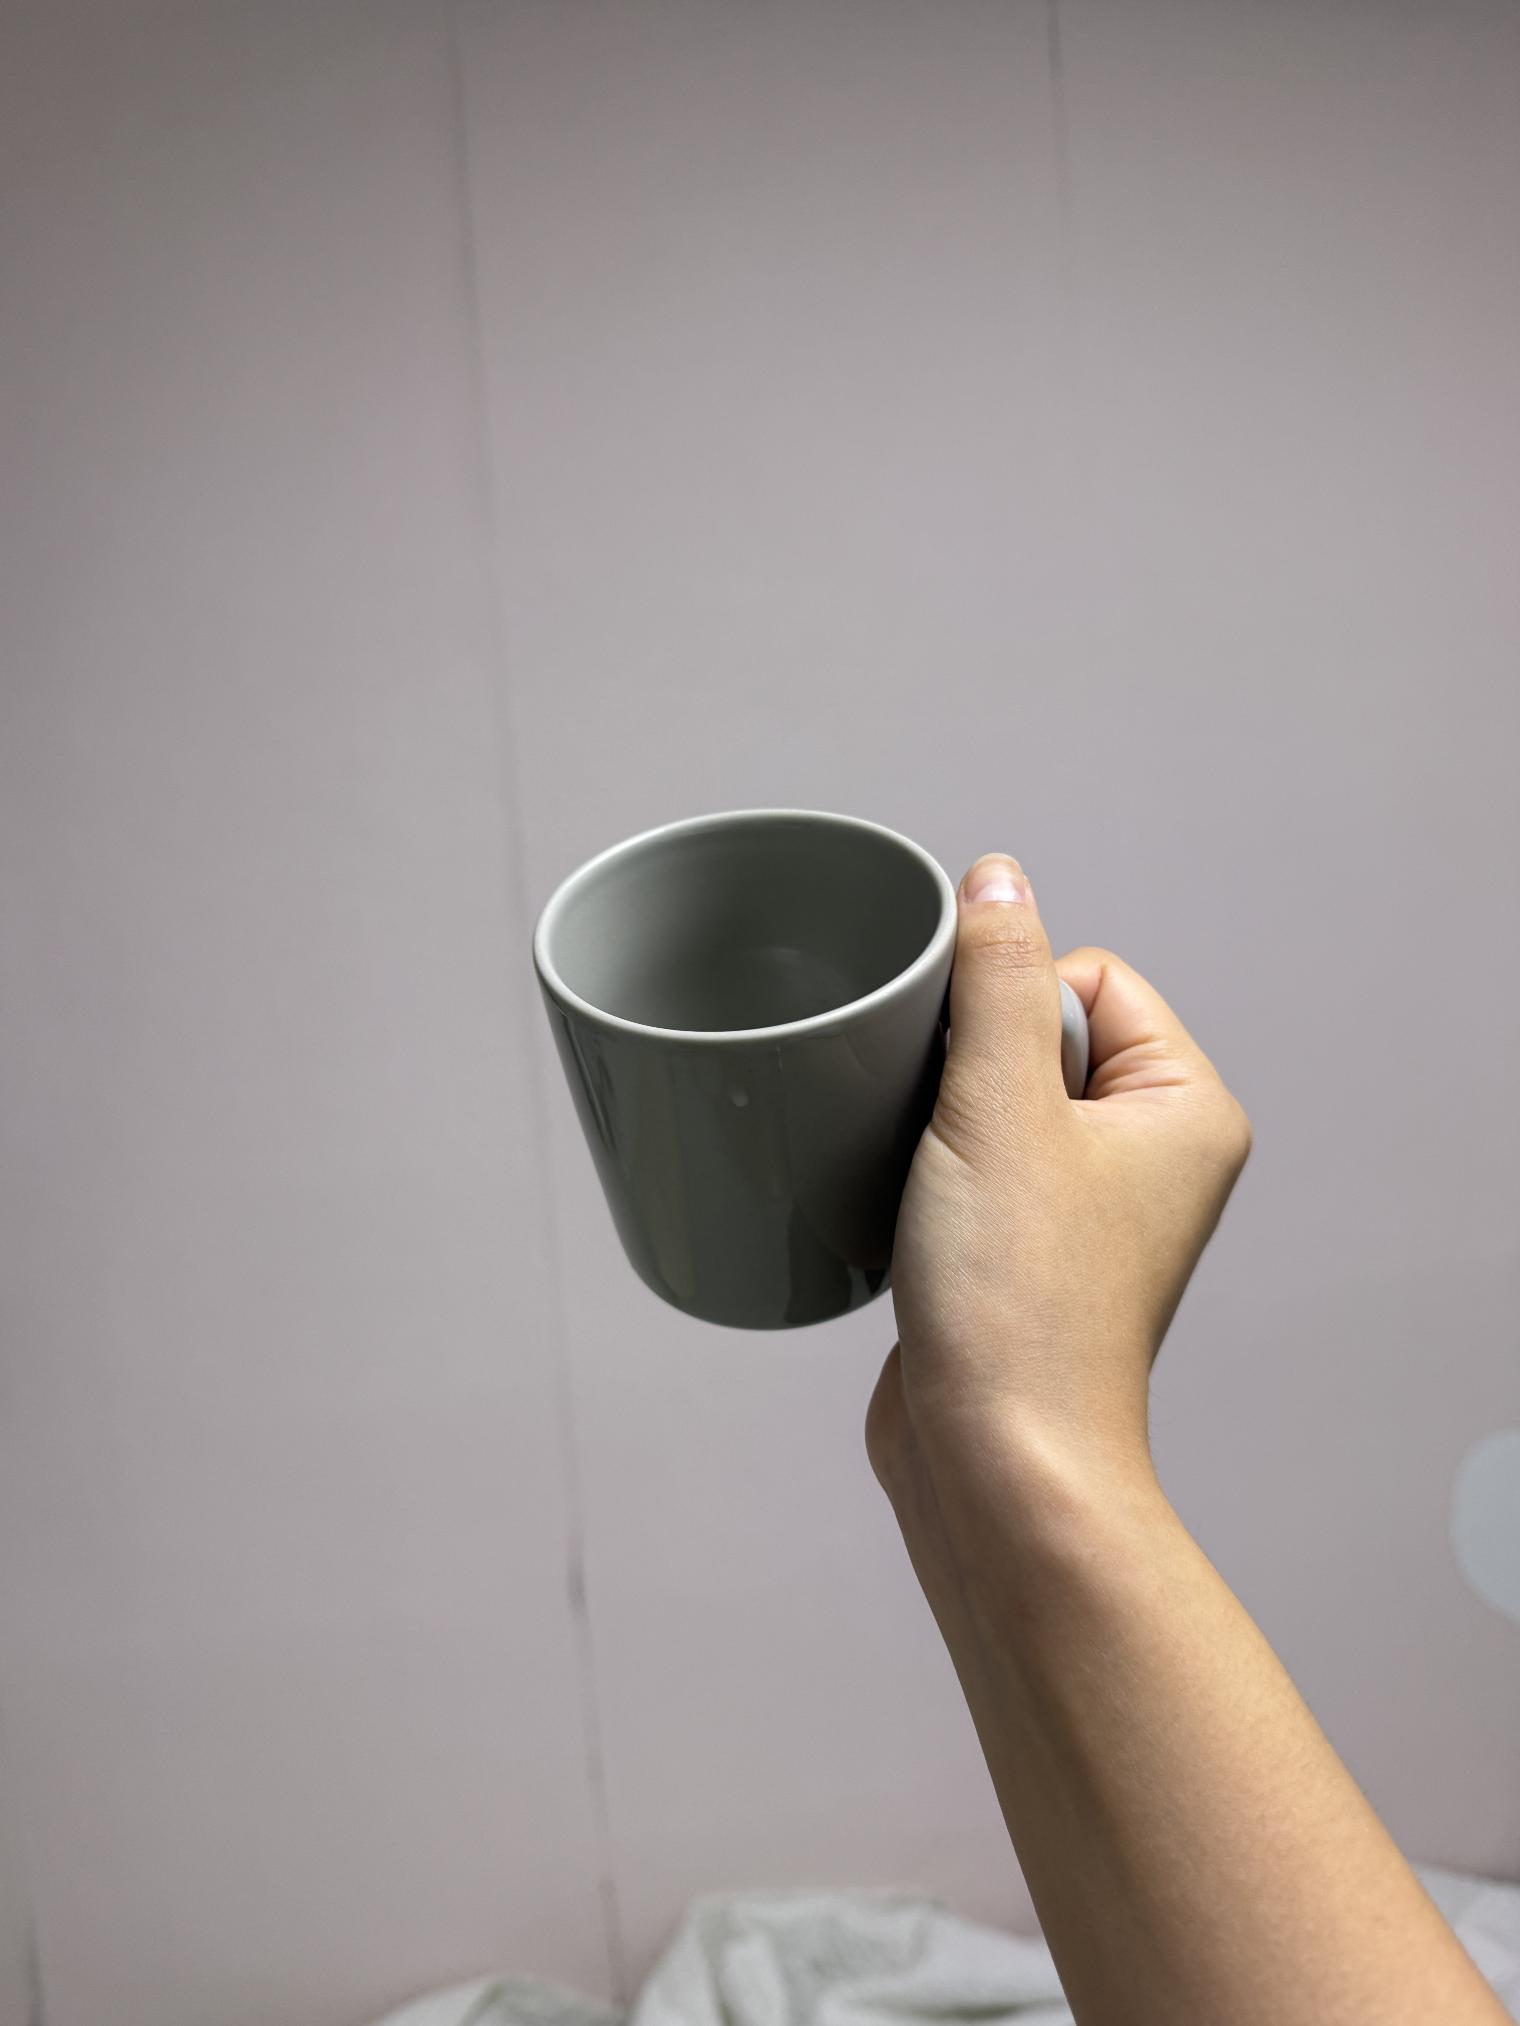cup: (530, 790, 1260, 1595)
